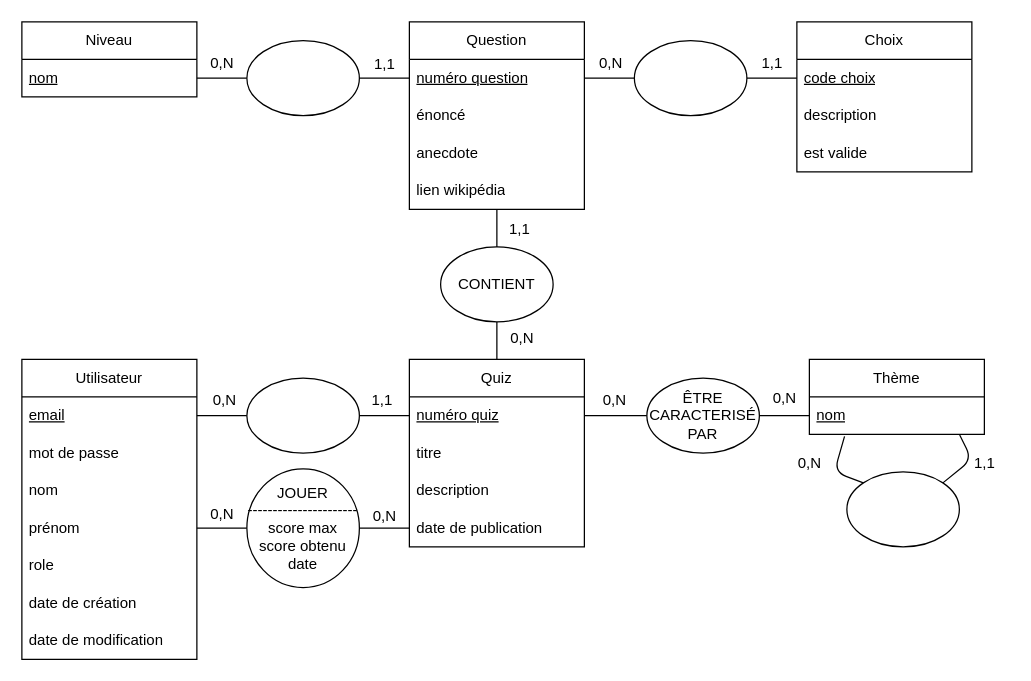
This 1031x681 diagram has some shape labels left out. Here are the shapes that lost their labels. From the top down, the centre of each, then its label:
At point (302, 77): "DÉFINIR".
At point (690, 77): "PRÉSENTE".
At point (302, 415): "CRÉER".
At point (902, 509): "SOUS-CATEGORISE".
